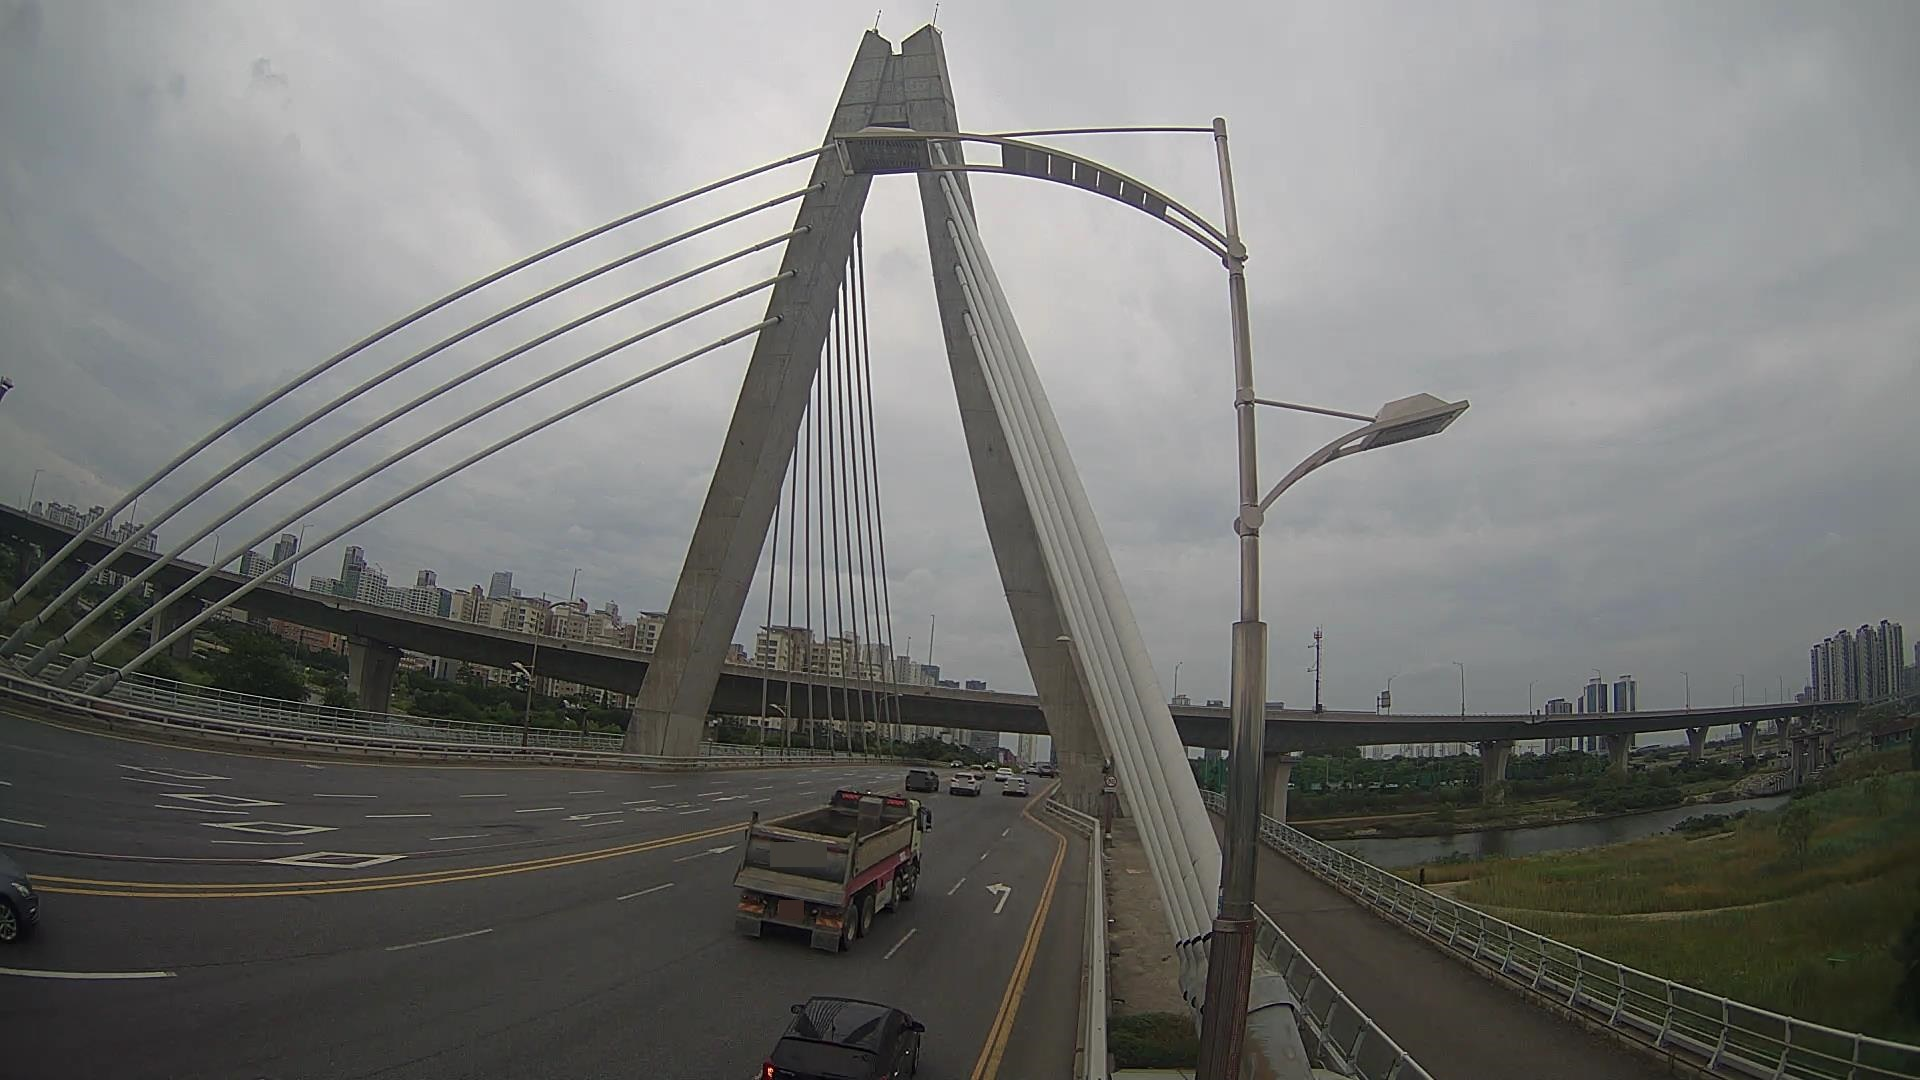정상차량: (731, 787, 934, 953)
